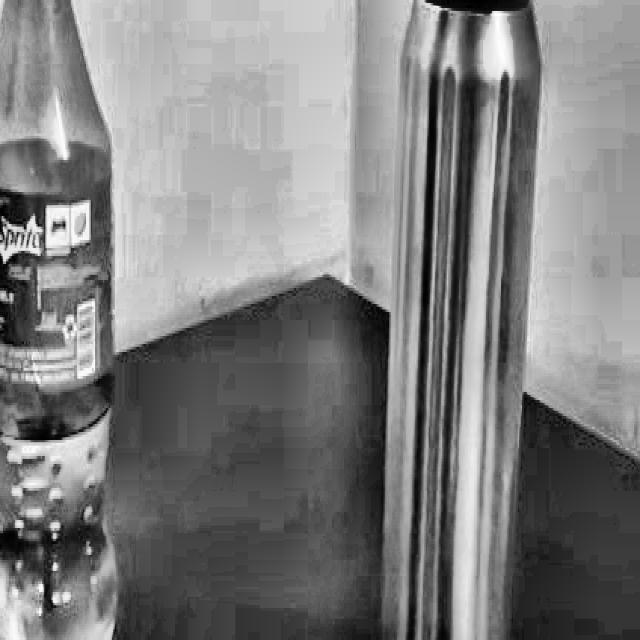bottle: (376, 0, 543, 640)
